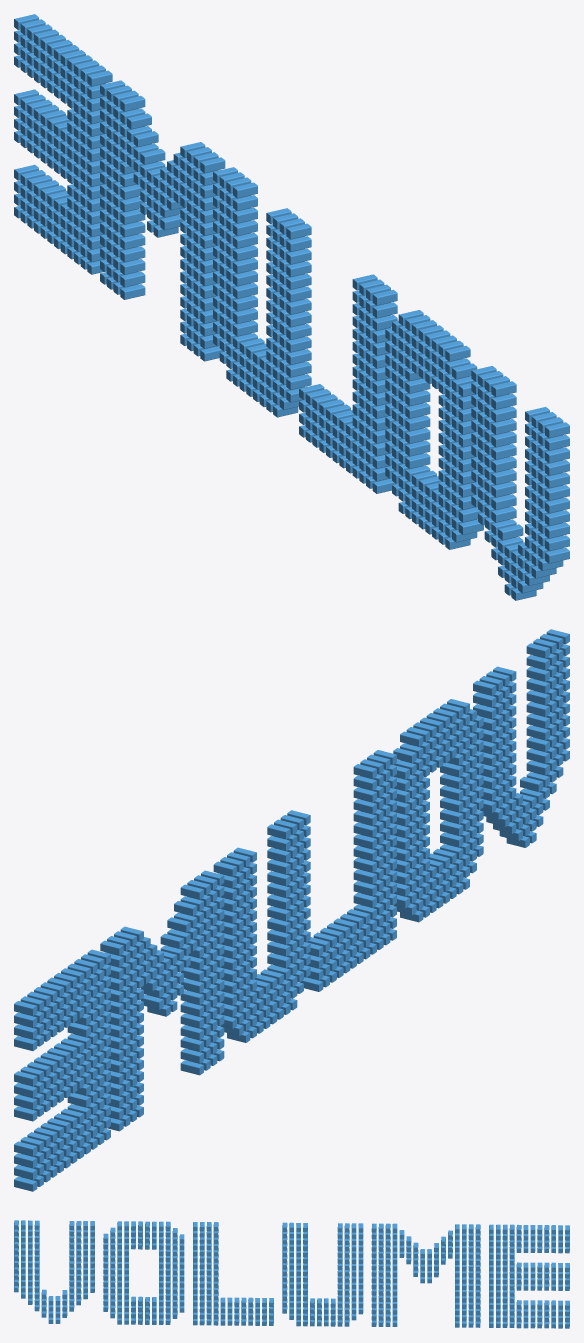
File: Volume.fbx
3 views of the same model, one above another, from view 1: azimuth 30°, elevation 25°; view 2: azimuth 150°, elevation 25°; view 3: azimuth 270°, elevation 25° (orthographic). The views are drawn at different scales.
Visible parts, largest first — view 1: POLICE_1; view 2: POLICE_1; view 3: POLICE_1.
Part boxes in pixels (box(x1,y1,x2,y2)): POLICE_1: box(14, 14, 569, 600); POLICE_1: box(14, 629, 569, 1191); POLICE_1: box(14, 1220, 569, 1328).
Bounding box in the file's own units: 1.69 × 7.83 × 40.14.
